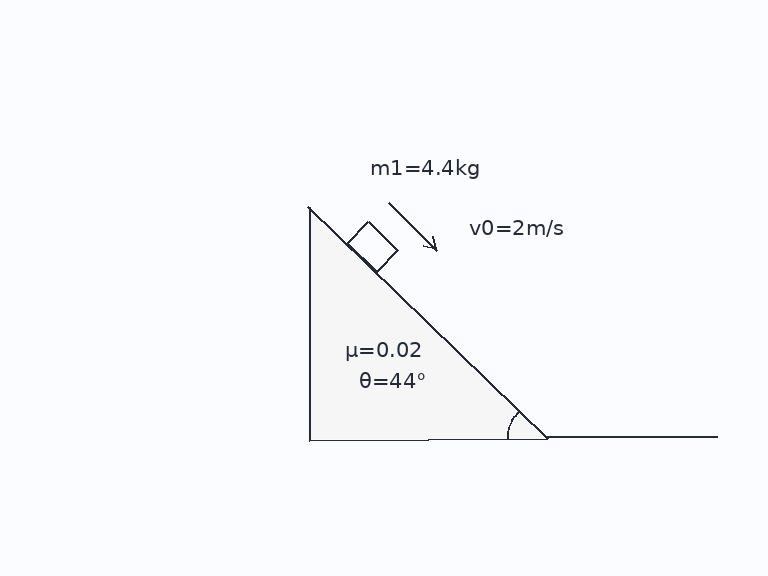block: (344, 219, 400, 274)
ramp: (306, 205, 550, 440)
